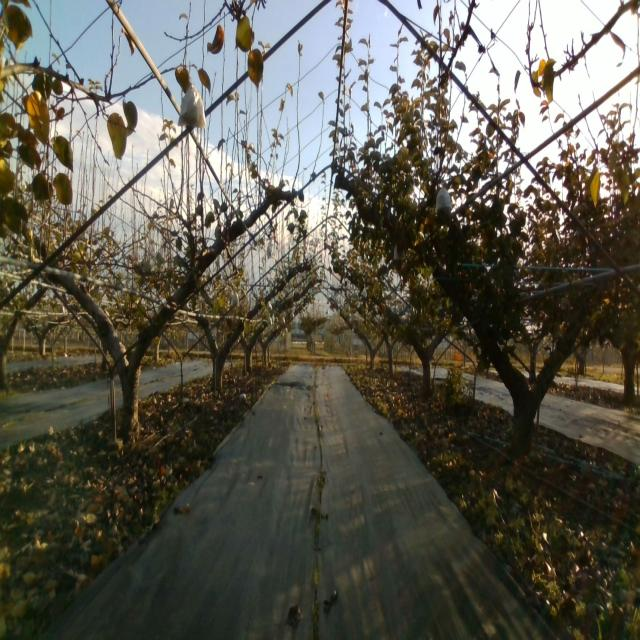pearbags: (178, 81, 208, 129), (434, 187, 452, 212)
